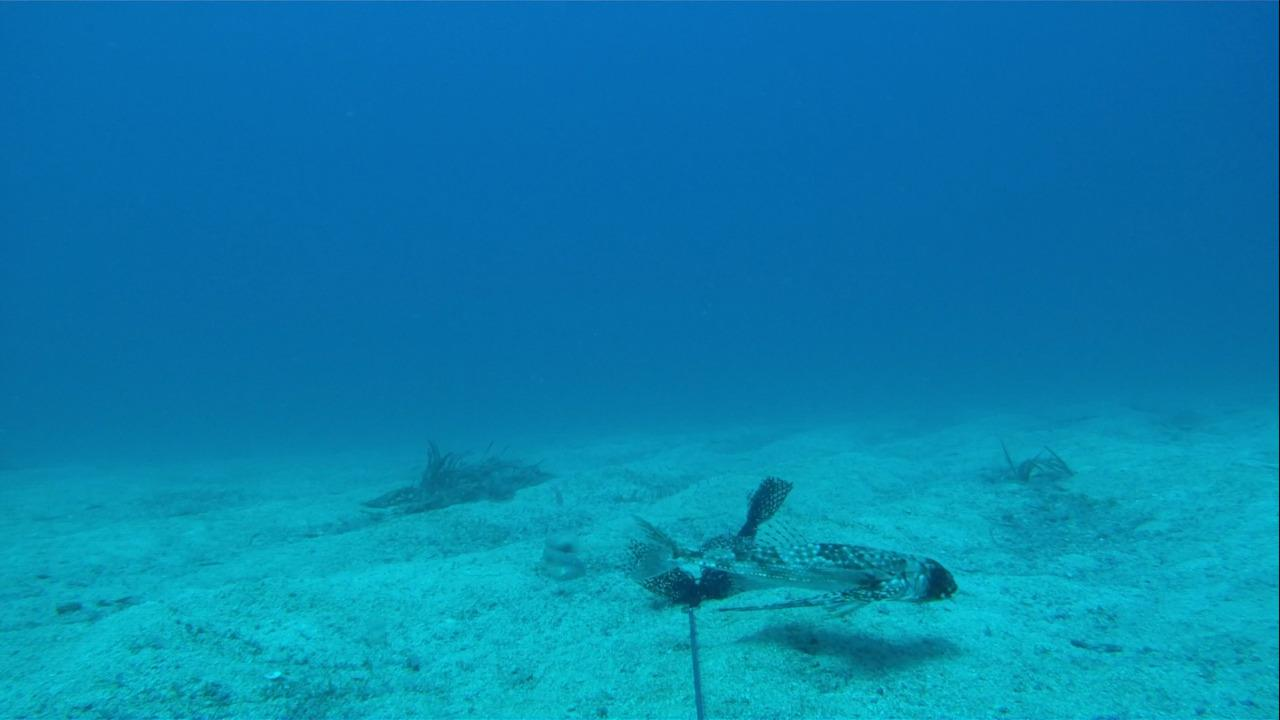dactylopterus: (620, 516, 960, 628)
raor: (526, 539, 581, 585)
